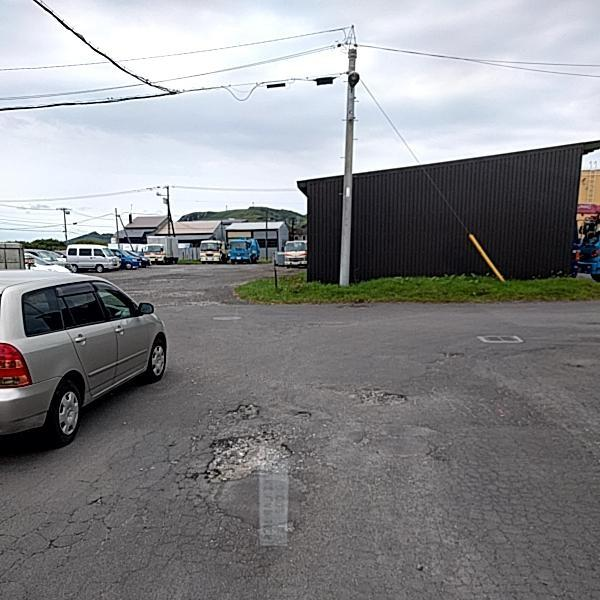pothole: (201, 433, 286, 480)
